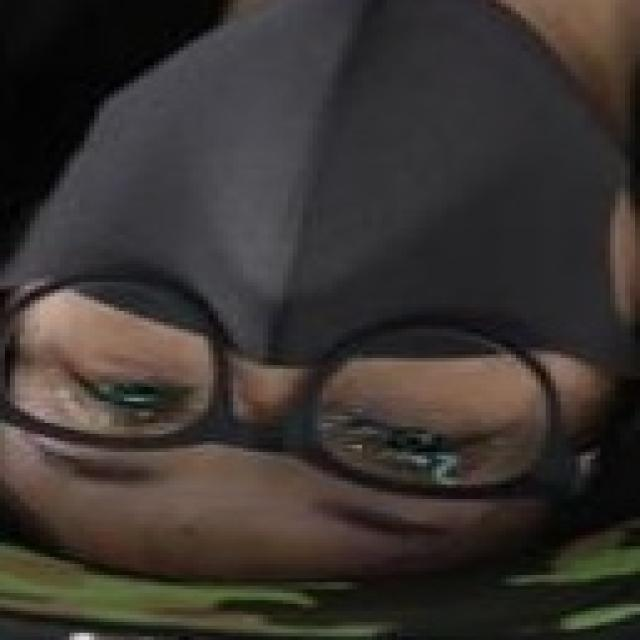mask: (27, 15, 604, 415)
